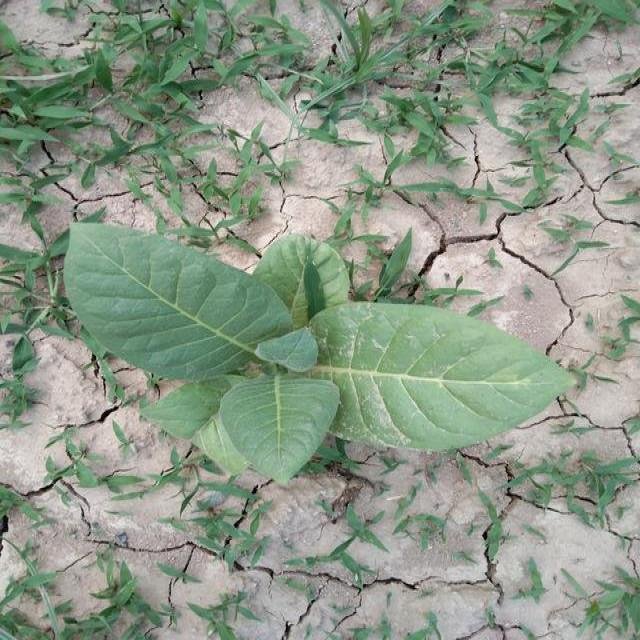crop: (58, 218, 576, 490)
